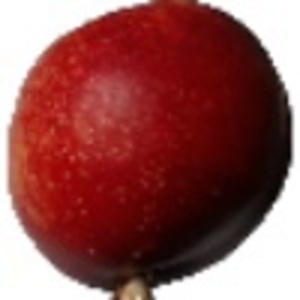nectarina: (1, 1, 293, 300)
